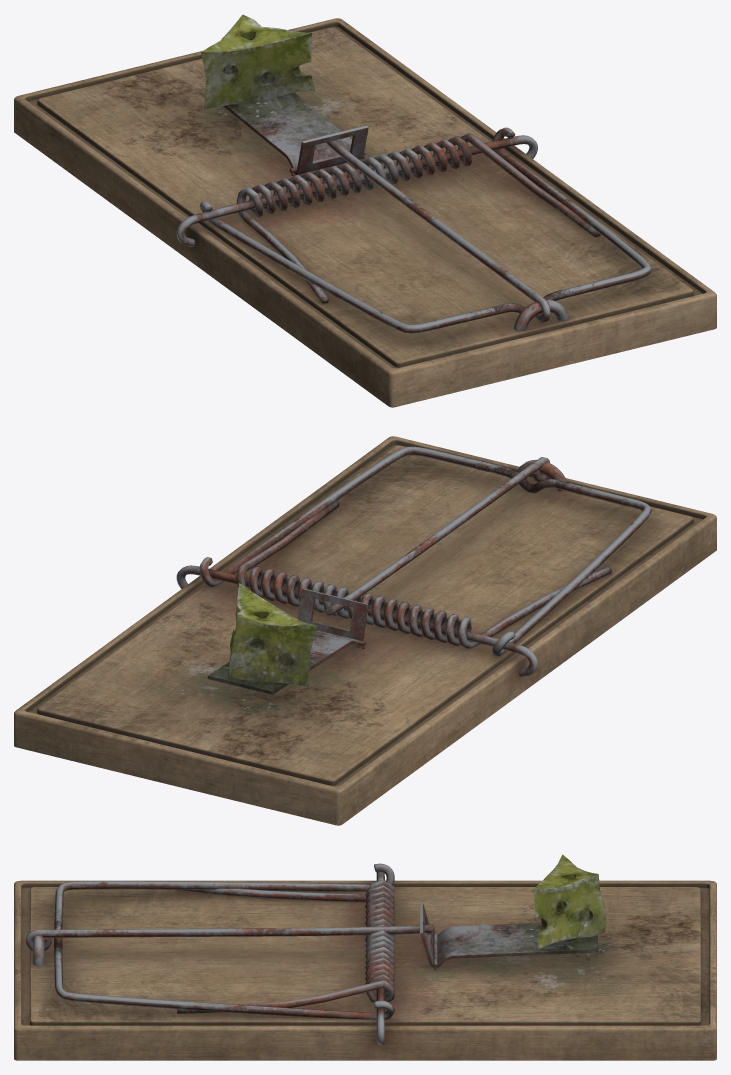
Rendered from mousetrap_2k.fbx.
3 renders of one model, top to bottom at view 1: azimuth 30°, elevation 25°; view 2: azimuth 150°, elevation 25°; view 3: azimuth 270°, elevation 25°, orthographic. The views are drawn at different scales.
Visible parts, largest first — view 1: mousetrap; view 2: mousetrap; view 3: mousetrap.
Boxes of the visible parts, left/top/right/bottom form: mousetrap: left=14, top=14, right=716, bottom=407; mousetrap: left=14, top=436, right=716, bottom=825; mousetrap: left=14, top=854, right=716, bottom=1060.
Bounding box in the file's own units: 5.5 × 1.79 × 10.04.
1 material, 1 textured.
